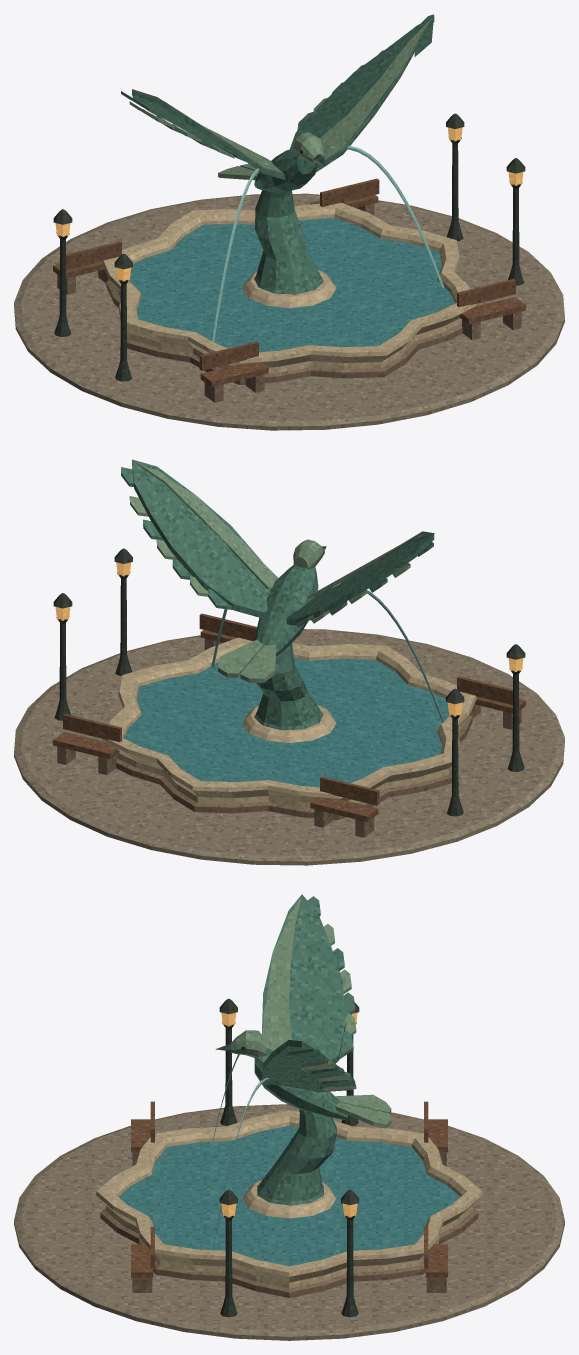
File: dove-fountain.glb
3 views of the same model, one above another, from view 1: azimuth 30°, elevation 25°; view 2: azimuth 150°, elevation 25°; view 3: azimuth 270°, elevation 25° (orthographic).
Visible parts, largest first — view 1: Raised circular paving, water_basin_surface, Shell basin wall, Bronze wave supporting the dove, Upturned wing.001, Lower stone course, Leading edge.001, Upturned wing, Rising dove breast, Stone wave collar, Bench seat, Bench seat.002 (+12 smaller); view 2: Raised circular paving, water_basin_surface, Shell basin wall, Upturned wing.001, Bronze wave supporting the dove, Lower stone course, Rising dove breast, Upturned wing, Leading edge.001, Stone wave collar, Bench seat.001, Bench seat.003 (+13 smaller); view 3: Raised circular paving, water_basin_surface, Shell basin wall, Upturned wing, Bronze wave supporting the dove, Lower stone course, Leading edge, Upturned wing.001, Rising dove breast, Stone wave collar, Iron lantern shaft.002, Iron lantern shaft.003 (+8 smaller).
Part boxes in pixels (left/top/right/bottom): Raised circular paving: left=14, top=193, right=564, bottom=430; water_basin_surface: left=129, top=217, right=454, bottom=352; Shell basin wall: left=102, top=202, right=476, bottom=373; Bronze wave supporting the dove: left=254, top=190, right=323, bottom=294; Upturned wing.001: left=289, top=15, right=434, bottom=172; Lower stone course: left=106, top=280, right=462, bottom=385; Leading edge.001: left=318, top=16, right=433, bottom=164; Upturned wing: left=132, top=89, right=285, bottom=179; Rising dove breast: left=254, top=149, right=318, bottom=193; Stone wave collar: left=242, top=270, right=336, bottom=308; Bench seat: left=200, top=362, right=268, bottom=386; Bench seat.002: left=459, top=297, right=525, bottom=324; Raised circular paving: left=14, top=629, right=564, bottom=865; water_basin_surface: left=124, top=658, right=449, bottom=787; Shell basin wall: left=102, top=637, right=476, bottom=808; Upturned wing.001: left=132, top=459, right=270, bottom=618; Bronze wave supporting the dove: left=254, top=643, right=323, bottom=730; Lower stone course: left=116, top=715, right=472, bottom=819; Rising dove breast: left=254, top=565, right=318, bottom=656; Upturned wing: left=286, top=531, right=434, bottom=625; Leading edge.001: left=133, top=460, right=278, bottom=589; Stone wave collar: left=242, top=704, right=336, bottom=742; Bench seat.001: left=310, top=797, right=378, bottom=821; Bench seat.003: left=53, top=732, right=119, bottom=759; Raised circular paving: left=14, top=1104, right=564, bottom=1340; water_basin_surface: left=118, top=1125, right=460, bottom=1266; Shell basin wall: left=96, top=1110, right=482, bottom=1288; Upturned wing: left=262, top=894, right=345, bottom=1063; Bronze wave supporting the dove: left=257, top=1109, right=336, bottom=1205; Lower stone course: left=100, top=1208, right=478, bottom=1297; Leading edge: left=262, top=894, right=301, bottom=1050; Upturned wing.001: left=261, top=1040, right=340, bottom=1092; Rising dove breast: left=254, top=1048, right=347, bottom=1120; Stone wave collar: left=242, top=1180, right=336, bottom=1218; Iron lantern shaft.002: left=220, top=1213, right=237, bottom=1317; Iron lantern shaft.003: left=341, top=1213, right=358, bottom=1317.
Size of the model in its own units: 11.9 by 6.12 by 11.9.
Materials: 12 (12 with a texture image).
